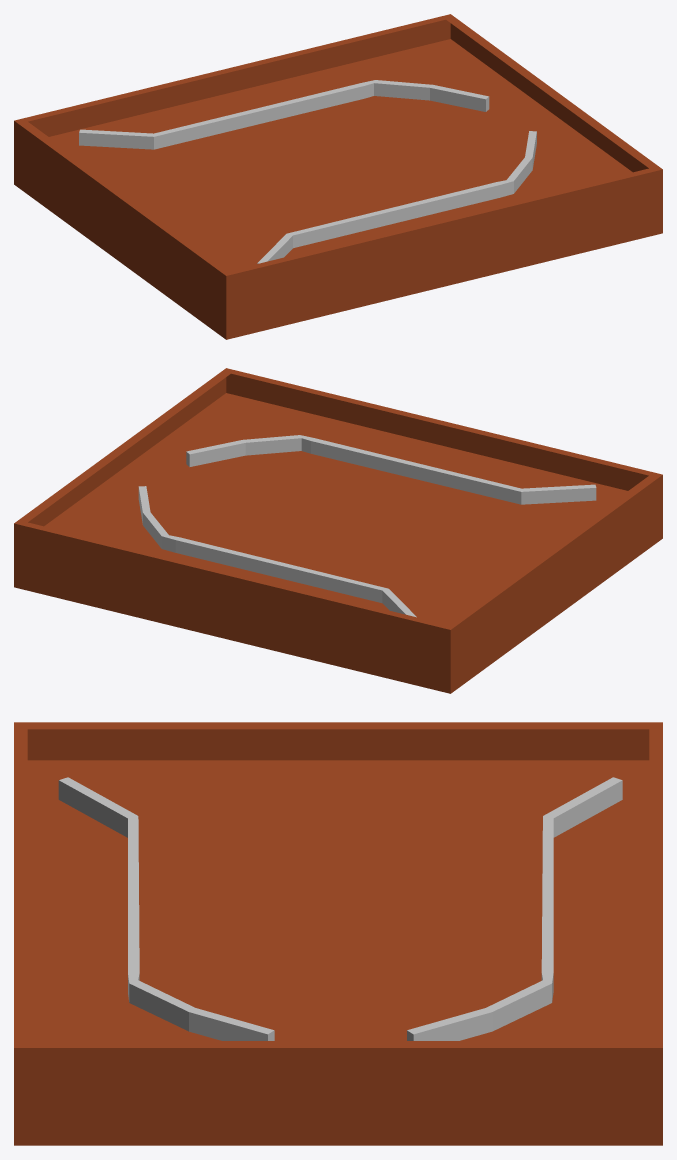
File: ptable.obj
The picture shows the model from 3 angles, top to bottom: view 1: azimuth 30°, elevation 25°; view 2: azimuth 150°, elevation 25°; view 3: azimuth 270°, elevation 25°; orthographic projection. The views are drawn at different scales.
Visible parts, largest first — view 1: Cube, Plane; view 2: Cube, Plane; view 3: Cube, Plane.
Boxes of the visible parts, bbox=[...] form: Cube: bbox=[14, 14, 662, 339]; Plane: bbox=[79, 80, 536, 263]; Cube: bbox=[14, 368, 662, 693]; Plane: bbox=[138, 435, 596, 617]; Cube: bbox=[14, 722, 662, 1145]; Plane: bbox=[58, 777, 622, 1040].
Bounding box in the file's own units: 14.3 × 2 × 12.04.
